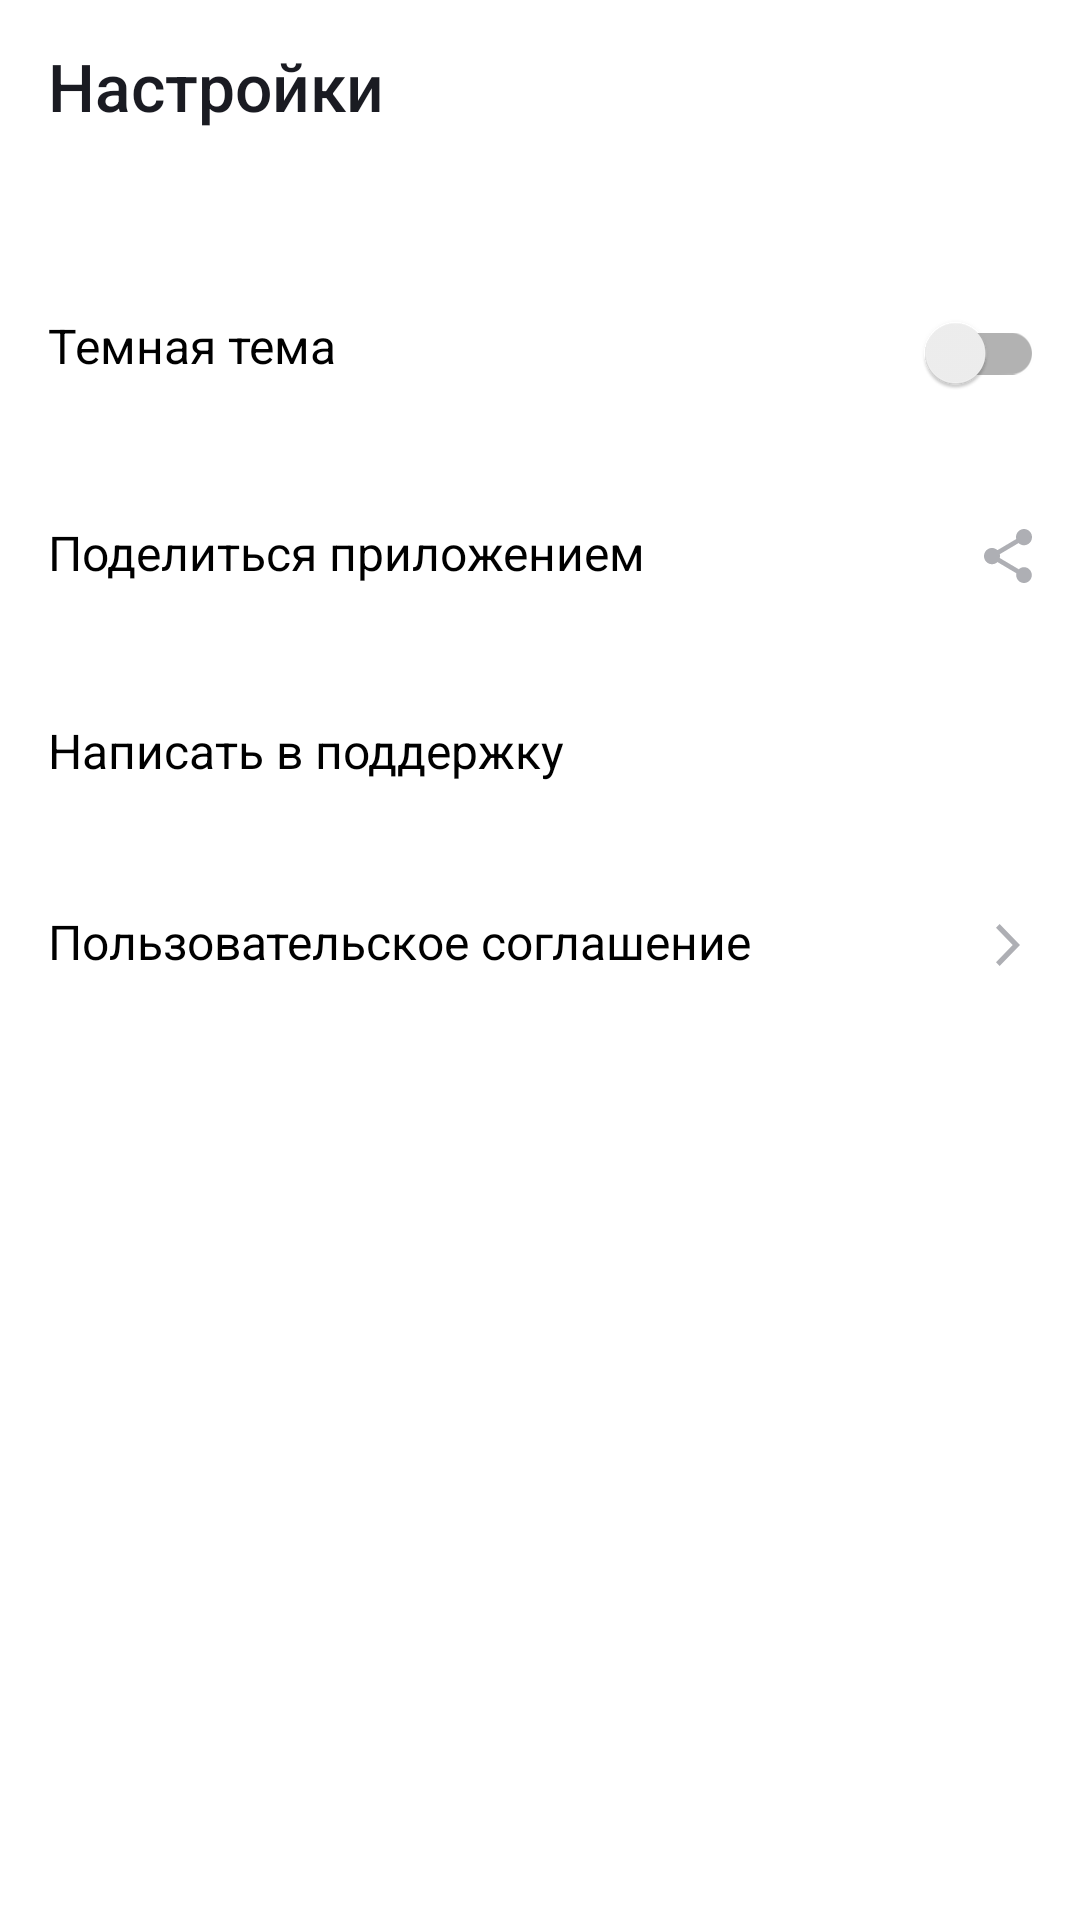

Where icons sit on this 1080 x 1920 app screen, as (x1=x1, y1=y1, x2=x2, y2=y2):
share: (x1=984, y1=529, x2=1032, y2=583)
